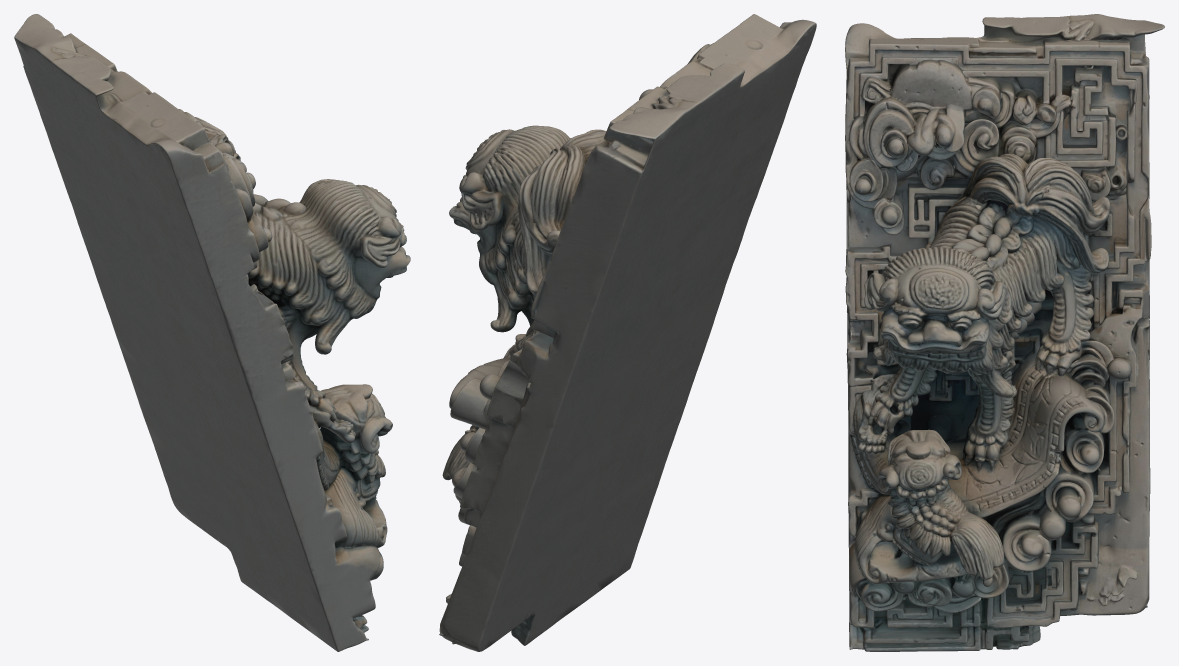
The picture shows the model from 3 angles, left to right: view 1: azimuth 30°, elevation 25°; view 2: azimuth 150°, elevation 25°; view 3: azimuth 270°, elevation 25°; orthographic projection. The views are drawn at different scales.
Parts seen in each view (by area): view 1: tripo_node_7f33a14b-0916-4902-91b0-27b759b13055; view 2: tripo_node_7f33a14b-0916-4902-91b0-27b759b13055; view 3: tripo_node_7f33a14b-0916-4902-91b0-27b759b13055.
Boxes of the visible parts, left/top/right/bottom form: tripo_node_7f33a14b-0916-4902-91b0-27b759b13055: left=14, top=14, right=410, bottom=651; tripo_node_7f33a14b-0916-4902-91b0-27b759b13055: left=439, top=14, right=816, bottom=651; tripo_node_7f33a14b-0916-4902-91b0-27b759b13055: left=845, top=14, right=1164, bottom=651.
Size of the model in its own units: 0.5237 by 0.9999 by 0.5315.
1 material, 1 textured.
